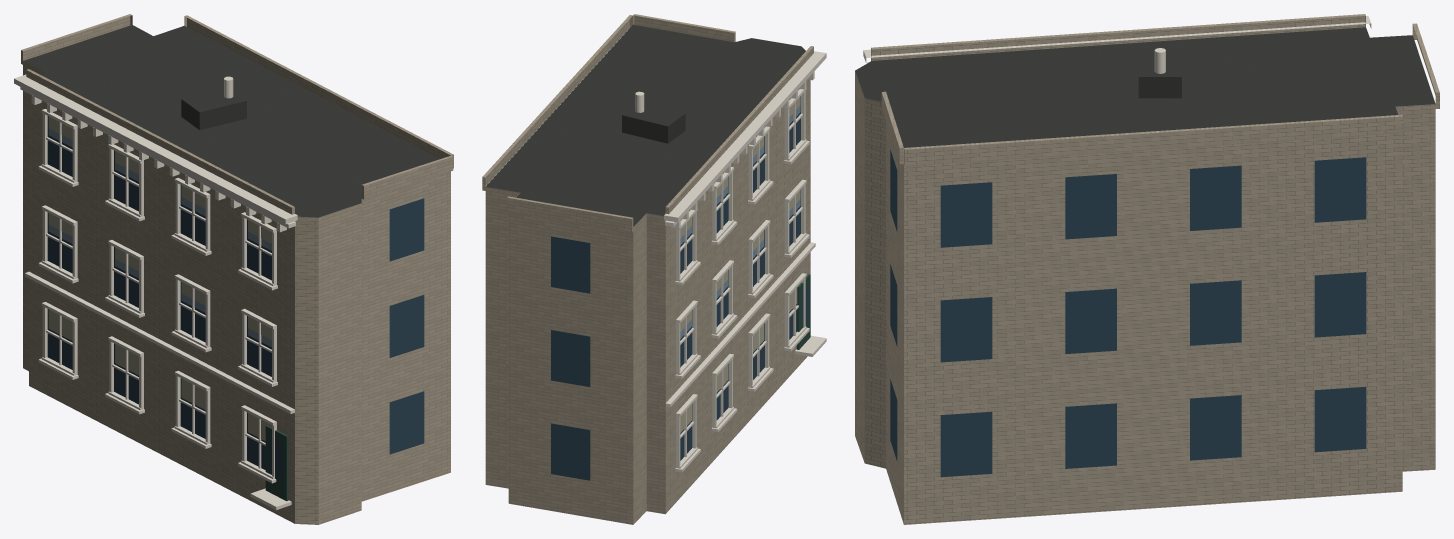
3 renders of one model, left to right at view 1: azimuth 30°, elevation 25°; view 2: azimuth 150°, elevation 25°; view 3: azimuth 270°, elevation 25°, orthographic. The views are drawn at different scales.
Parts seen in each view (by area): view 1: Footprint 0 / surface 2, Footprint 0 / surface 1, Cornices and window frames, Inset glazing, Facade bay volumes, Interior blind variation, Sky reflection panels, Storefronts and doors, Inferred rooftop service enclosure / surface 5, Inferred rooftop service enclosure / surface 3; view 2: Footprint 0 / surface 2, Footprint 0 / surface 1, Cornices and window frames, Inset glazing, Facade bay volumes, Interior blind variation, Inferred rooftop service enclosure / surface 6, Inferred rooftop service enclosure / surface 3, Sky reflection panels, Storefronts and doors; view 3: Footprint 0 / surface 2, Footprint 0 / surface 1, Inset glazing, Facade bay volumes, Cornices and window frames, Inferred rooftop service enclosure / surface 3, Inferred rooftop service enclosure / surface 1.
Part boxes in pixels (x1,y1,x2,y2): Footprint 0 / surface 2: [23, 61, 450, 524]; Footprint 0 / surface 1: [23, 25, 439, 217]; Cornices and window frames: [14, 74, 297, 510]; Inset glazing: [47, 116, 424, 478]; Facade bay volumes: [21, 14, 453, 214]; Interior blind variation: [48, 116, 271, 440]; Sky reflection panels: [48, 128, 271, 396]; Storefronts and doors: [265, 425, 288, 501]; Inferred rooftop service enclosure / surface 5: [199, 101, 246, 129]; Inferred rooftop service enclosure / surface 3: [182, 89, 246, 112]; Footprint 0 / surface 2: [485, 79, 810, 524]; Footprint 0 / surface 1: [486, 24, 805, 226]; Cornices and window frames: [664, 51, 826, 472]; Inset glazing: [551, 96, 808, 480]; Facade bay volumes: [482, 14, 813, 232]; Interior blind variation: [680, 96, 800, 432]; Inferred rooftop service enclosure / surface 6: [622, 115, 667, 143]; Inferred rooftop service enclosure / surface 3: [622, 103, 684, 126]; Sky reflection panels: [680, 105, 800, 379]; Storefronts and doors: [796, 274, 810, 349]; Footprint 0 / surface 2: [855, 71, 1435, 524]; Footprint 0 / surface 1: [855, 27, 1435, 147]; Inset glazing: [890, 149, 1366, 477]; Facade bay volumes: [871, 14, 1439, 165]; Cornices and window frames: [863, 16, 1371, 62]; Inferred rooftop service enclosure / surface 3: [1138, 49, 1181, 76]; Inferred rooftop service enclosure / surface 1: [1138, 77, 1181, 98].
Size of the model in its own units: 9.32 by 12.48 by 16.21.
